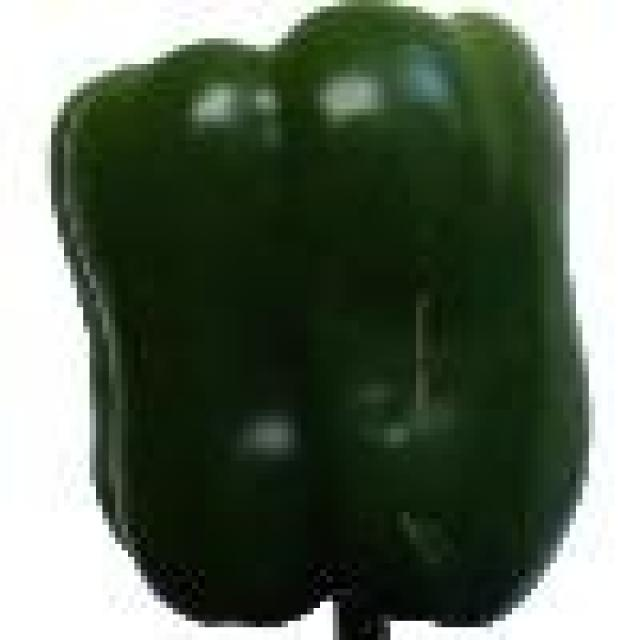Bell Pepper: (51, 6, 582, 634)
